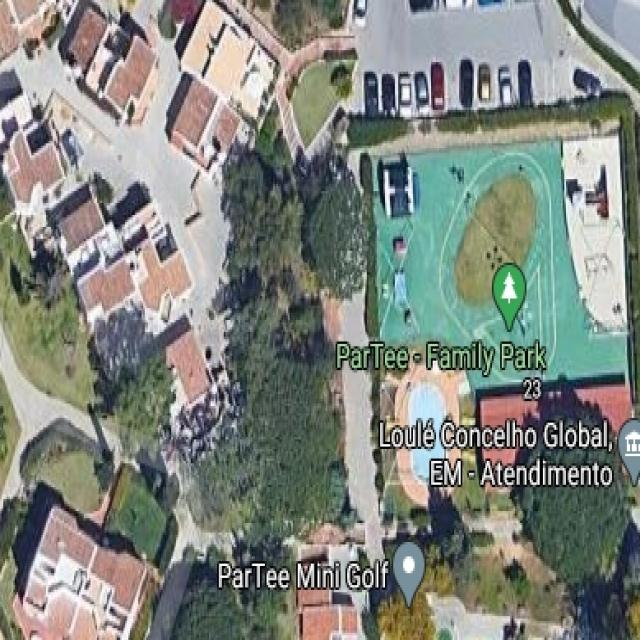swimming pool: (402, 379, 466, 495)
